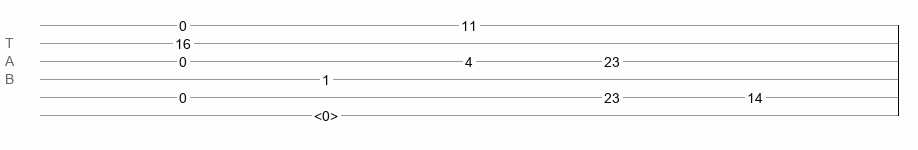0: (179, 90, 187, 100), (179, 54, 187, 64), (179, 18, 187, 28)
1: (322, 72, 330, 82)
11: (461, 18, 477, 28)
14: (747, 90, 763, 100)
16: (175, 36, 191, 46)
23: (604, 54, 620, 64), (604, 90, 620, 100)
4: (465, 54, 473, 64)
harmonic: (314, 108, 338, 118)
